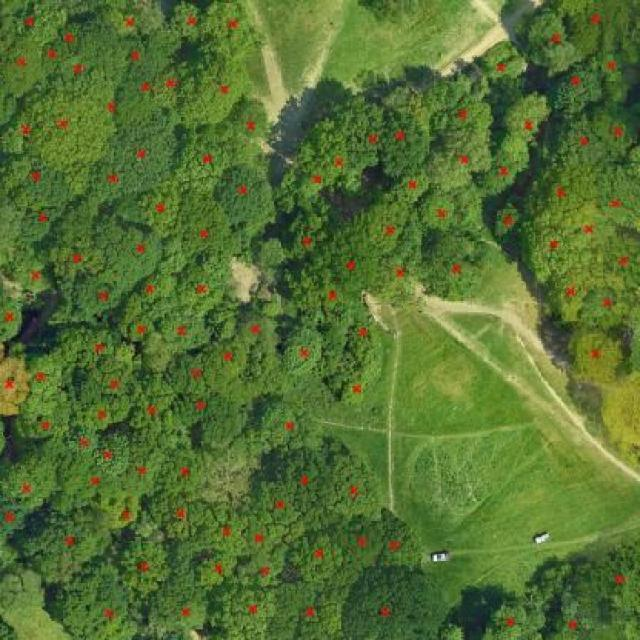tree: (337, 561, 454, 640), (24, 88, 124, 180), (40, 551, 142, 640), (409, 226, 506, 314), (160, 127, 263, 201), (307, 102, 376, 208), (108, 109, 187, 198), (199, 321, 278, 410), (181, 46, 258, 135), (83, 216, 163, 299), (504, 207, 581, 293), (16, 506, 119, 569), (421, 121, 497, 204), (111, 526, 186, 606), (46, 206, 115, 292), (273, 438, 345, 520), (165, 251, 249, 320), (586, 535, 640, 640), (376, 93, 436, 185), (518, 154, 600, 220), (165, 199, 249, 263), (198, 0, 273, 71), (592, 363, 640, 472), (557, 0, 640, 62), (208, 571, 281, 640), (328, 444, 392, 522), (141, 575, 217, 640), (289, 264, 369, 325), (561, 326, 634, 392), (155, 437, 224, 505), (335, 87, 386, 178), (248, 394, 323, 455), (211, 160, 277, 229), (439, 69, 505, 138), (542, 114, 613, 177), (477, 134, 538, 206), (552, 196, 626, 255), (129, 182, 197, 246), (331, 503, 388, 579), (150, 487, 225, 544), (272, 577, 339, 640), (127, 367, 182, 442), (543, 256, 595, 335), (193, 492, 249, 565), (524, 4, 585, 71), (351, 199, 414, 263), (276, 313, 329, 389), (200, 388, 260, 455), (11, 162, 80, 220), (284, 518, 342, 587), (548, 60, 609, 125), (245, 475, 311, 535), (0, 453, 65, 513), (603, 139, 640, 244), (53, 280, 129, 331), (370, 507, 422, 581), (320, 229, 377, 296), (0, 28, 49, 103), (279, 204, 336, 268), (76, 385, 141, 441), (340, 305, 394, 371), (580, 104, 640, 162), (97, 0, 174, 45), (73, 156, 133, 213), (396, 75, 452, 136), (471, 38, 526, 100), (116, 434, 164, 505), (477, 594, 551, 640), (146, 59, 206, 115), (233, 500, 287, 562), (577, 273, 628, 338), (502, 89, 558, 148), (239, 531, 293, 592), (0, 337, 35, 431), (13, 395, 75, 448), (184, 542, 248, 593), (70, 322, 139, 369), (286, 147, 335, 213), (14, 198, 71, 254), (0, 0, 69, 46), (164, 338, 215, 400), (0, 254, 60, 306), (88, 484, 149, 535), (129, 326, 185, 380), (589, 51, 636, 114), (170, 377, 221, 435), (0, 566, 51, 623), (0, 291, 48, 349), (413, 184, 465, 236), (52, 422, 109, 468), (543, 594, 600, 640), (24, 348, 75, 399), (375, 250, 422, 305), (88, 78, 135, 132), (94, 354, 145, 403), (115, 35, 161, 87), (389, 164, 433, 215), (238, 307, 281, 358), (129, 269, 180, 311), (55, 45, 101, 91), (68, 465, 121, 504), (1, 112, 41, 163), (207, 296, 245, 349), (90, 432, 136, 475), (86, 3, 122, 55), (489, 195, 520, 254), (168, 0, 205, 49), (333, 375, 375, 416), (38, 36, 72, 84), (249, 235, 295, 270), (123, 311, 166, 348), (0, 87, 32, 132), (1, 500, 33, 545), (61, 15, 90, 57), (254, 297, 292, 323), (440, 614, 469, 640), (0, 617, 22, 640)
